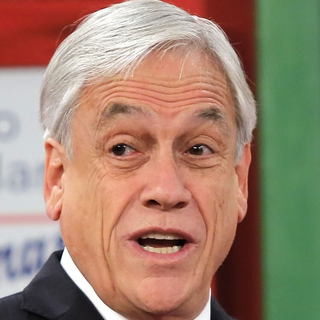eye: (101, 136, 146, 164), (175, 138, 222, 164)
